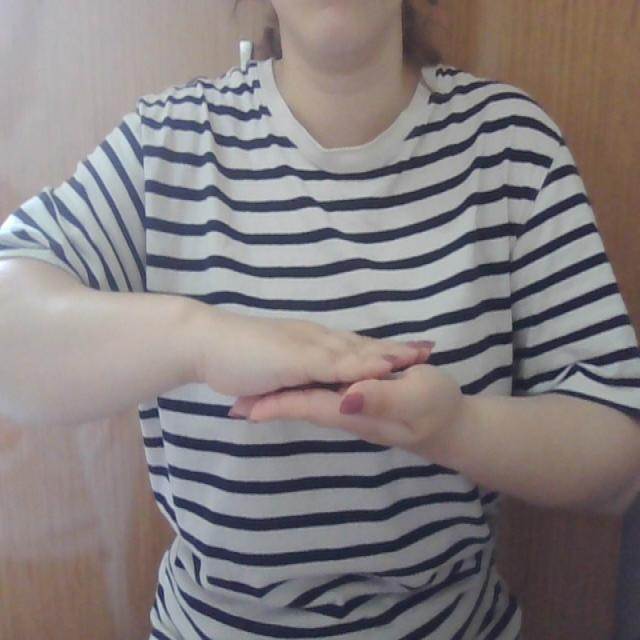Arkadas: (150, 292, 562, 466)
